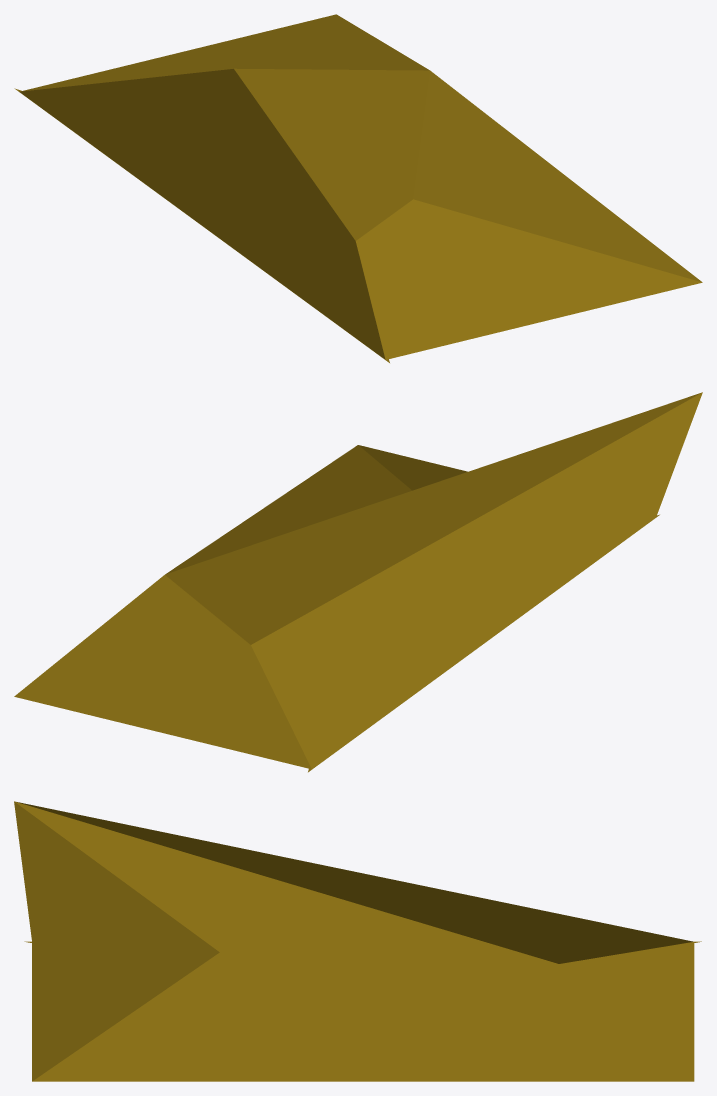
Rendered from broken_golden_bar.fbx.
The picture shows the model from 3 angles, top to bottom: view 1: azimuth 30°, elevation 25°; view 2: azimuth 150°, elevation 25°; view 3: azimuth 270°, elevation 25°; orthographic projection. The views are drawn at different scales.
Parts seen in each view (by area): view 1: Plane; view 2: Plane; view 3: Plane.
Boxes of the visible parts, box(x1,y1,x2,y2) form: Plane: box(14, 14, 702, 362); Plane: box(14, 392, 702, 772); Plane: box(14, 801, 701, 1081).
Bounding box in the file's own units: 225 × 81.89 × 416.
